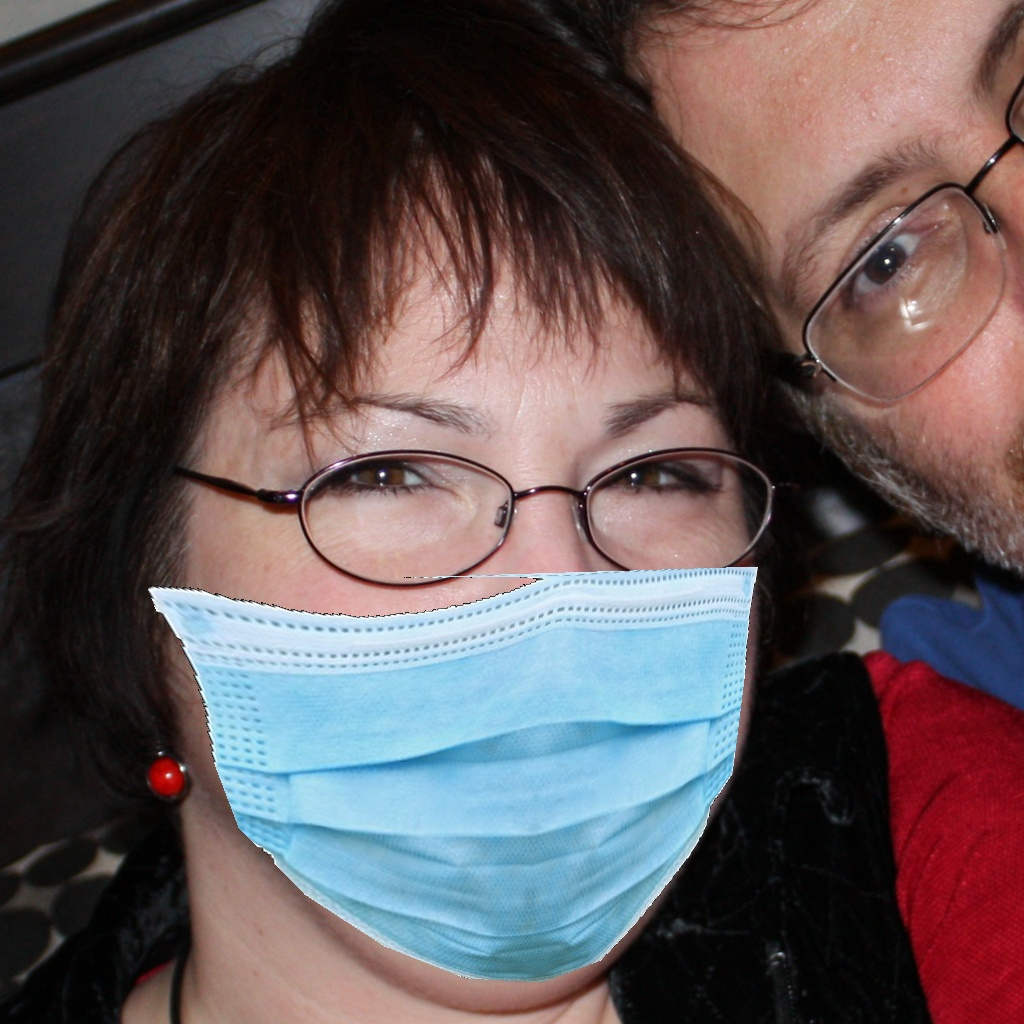Mask: (149, 333, 758, 981)
